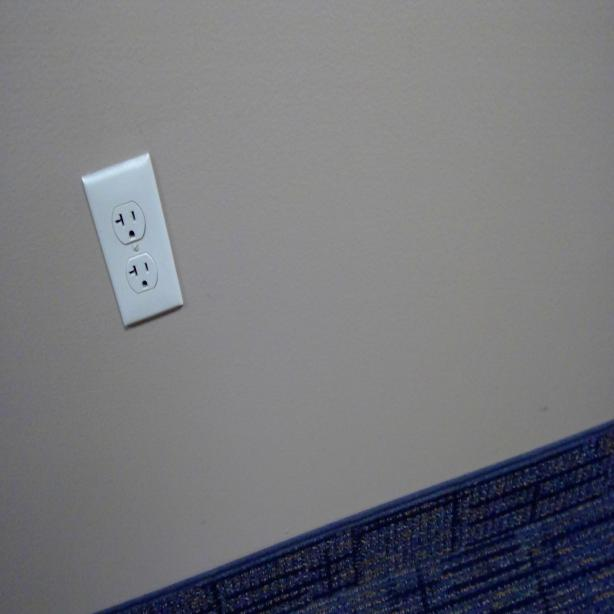typeb: (112, 197, 146, 242), (126, 258, 159, 298)
